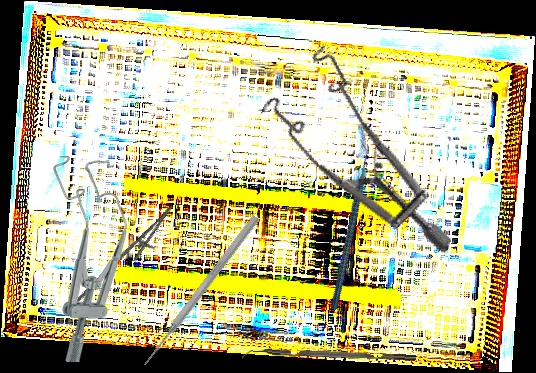Chopper: (278, 138, 418, 311), (242, 345, 416, 370)
Needle Holder: (68, 193, 183, 327)
Pusher: (140, 213, 261, 369)
Speculum: (237, 32, 499, 256), (48, 155, 130, 364)
